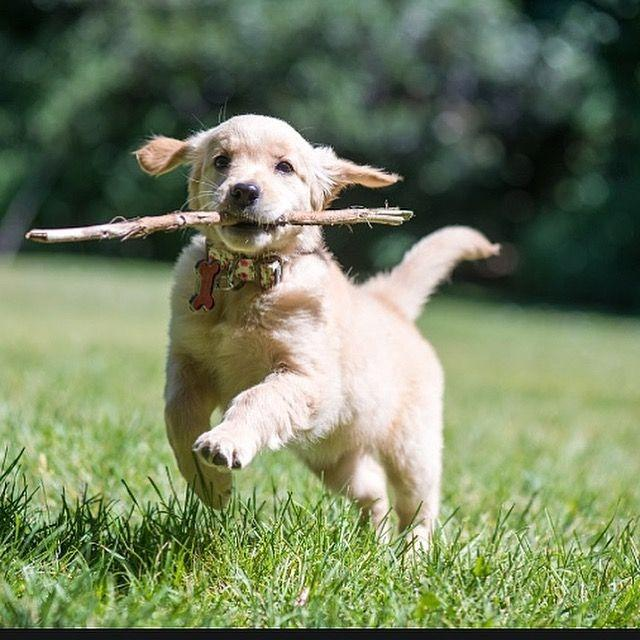puppy-dog: (136, 112, 505, 562)
